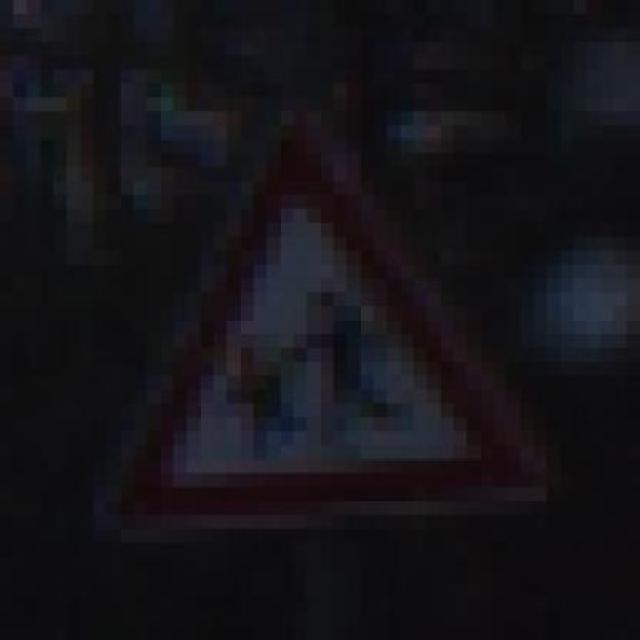Beware of children: (93, 125, 547, 543)
